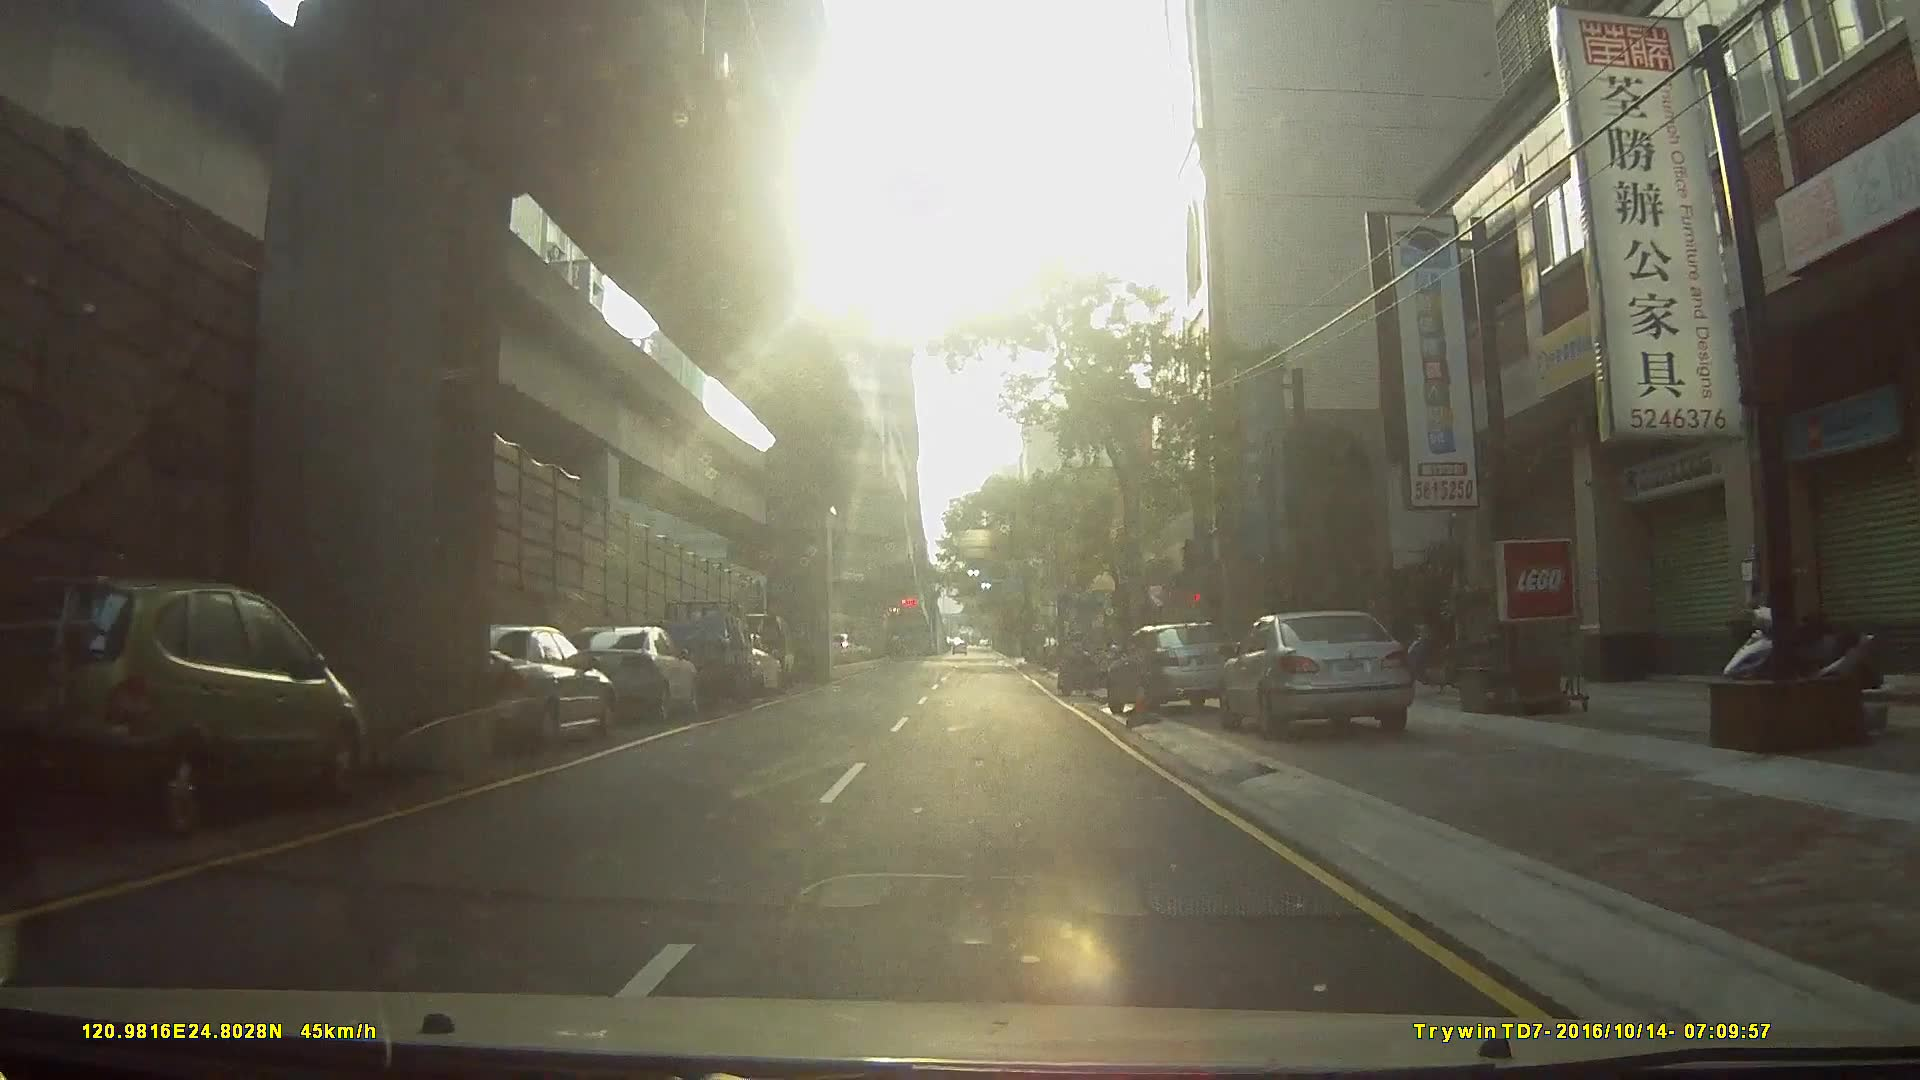rider: (1056, 628, 1112, 695)
vehicle: (1, 577, 372, 845), (1220, 611, 1426, 738), (426, 621, 613, 760), (1103, 618, 1249, 720), (551, 623, 698, 722), (638, 597, 754, 710)
